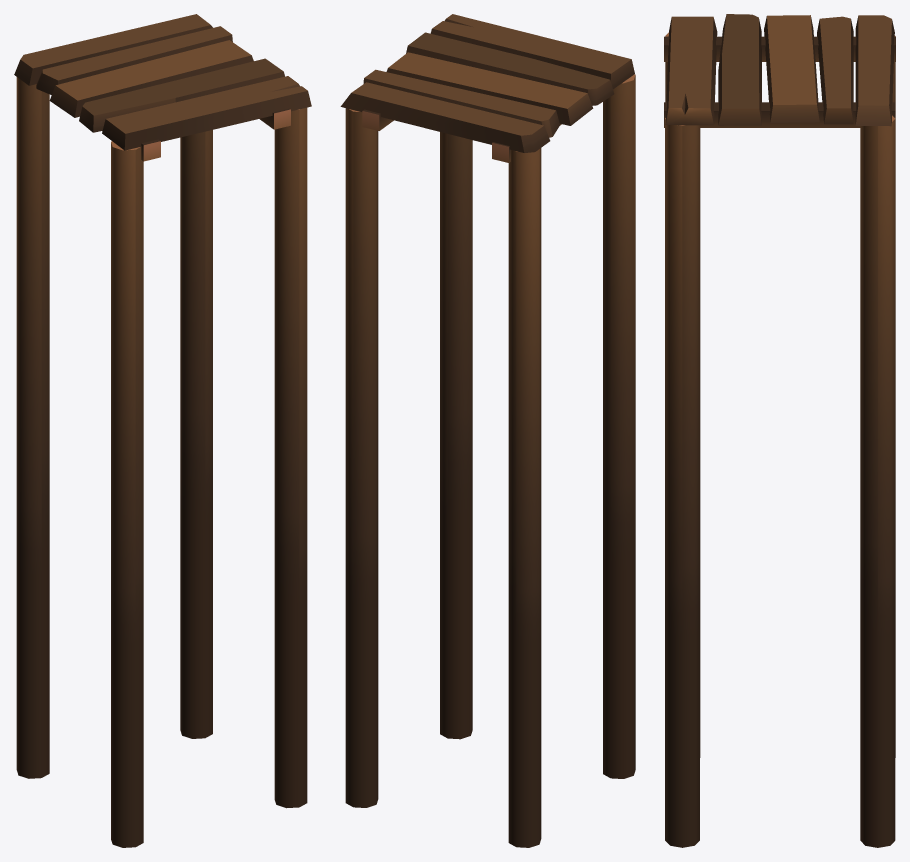
Rendered from Wooden_Pier_1C.fbx.
3 views of the same model, side by side, from view 1: azimuth 30°, elevation 25°; view 2: azimuth 150°, elevation 25°; view 3: azimuth 270°, elevation 25° (orthographic). The views are drawn at different scales.
Visible parts, largest first — view 1: Wooden_Pier_1C; view 2: Wooden_Pier_1C; view 3: Wooden_Pier_1C.
Boxes of the visible parts, <box> form: Wooden_Pier_1C: <box>14,14,311,847</box>; Wooden_Pier_1C: <box>340,14,635,847</box>; Wooden_Pier_1C: <box>664,14,895,847</box>.
Size of the model in its own units: 199 by 700 by 200.
